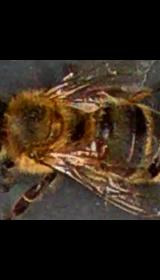varroa_mite: (82, 135, 114, 164)
